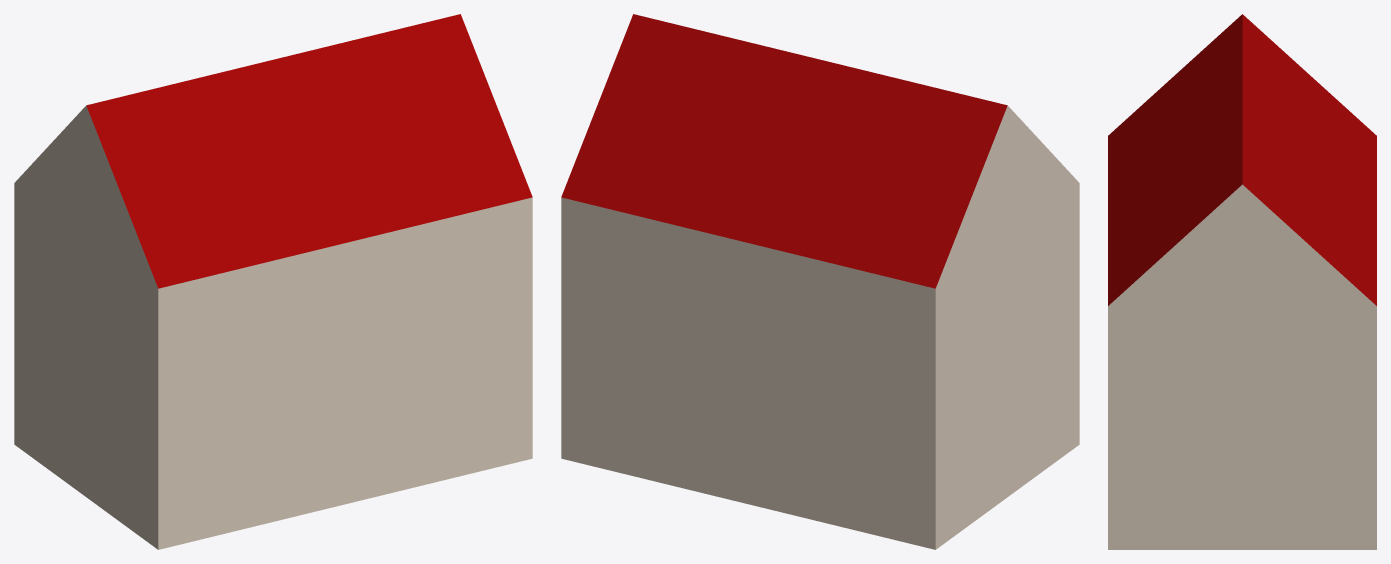
Rendered from SM_BuildingTest_Roof.fbx.
3 renders of one model, left to right at view 1: azimuth 30°, elevation 25°; view 2: azimuth 150°, elevation 25°; view 3: azimuth 270°, elevation 25°, orthographic. The views are drawn at different scales.
Visible parts, largest first — view 1: SM_BuildingTest_Roof; view 2: SM_BuildingTest_Roof; view 3: SM_BuildingTest_Roof.
Part boxes in pixels (box(x1,y1,x2,y2)): SM_BuildingTest_Roof: box(14, 14, 532, 549); SM_BuildingTest_Roof: box(561, 14, 1079, 549); SM_BuildingTest_Roof: box(1108, 14, 1376, 549).
Size of the model in its own units: 3 by 3 by 2.
